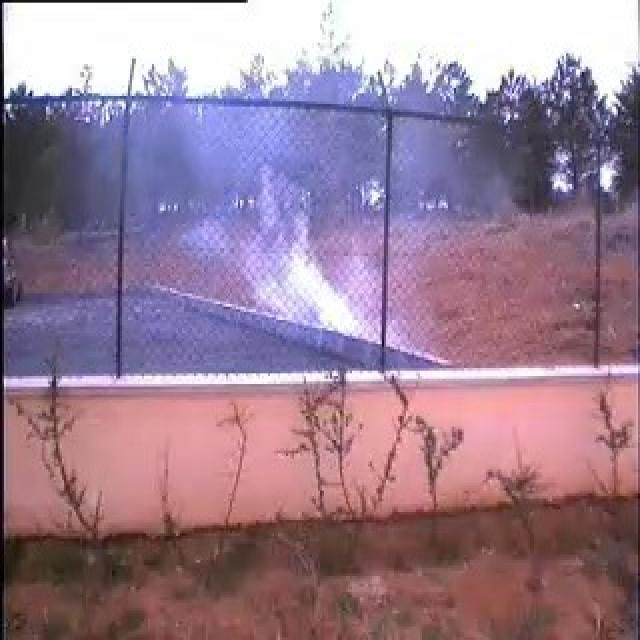smoke: (176, 134, 406, 336)
